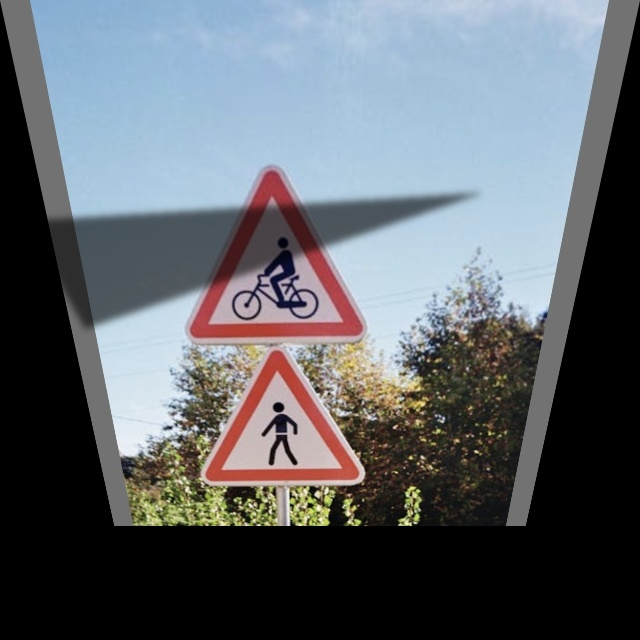Cycle_Crossing: (162, 162, 373, 346)
